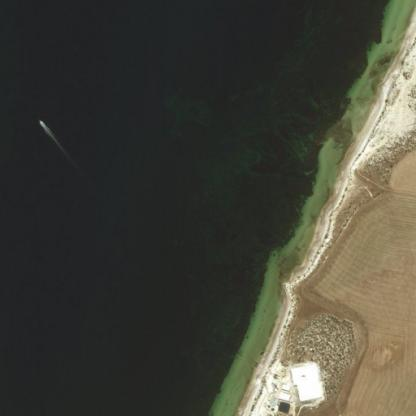ship: (31, 114, 46, 128)
